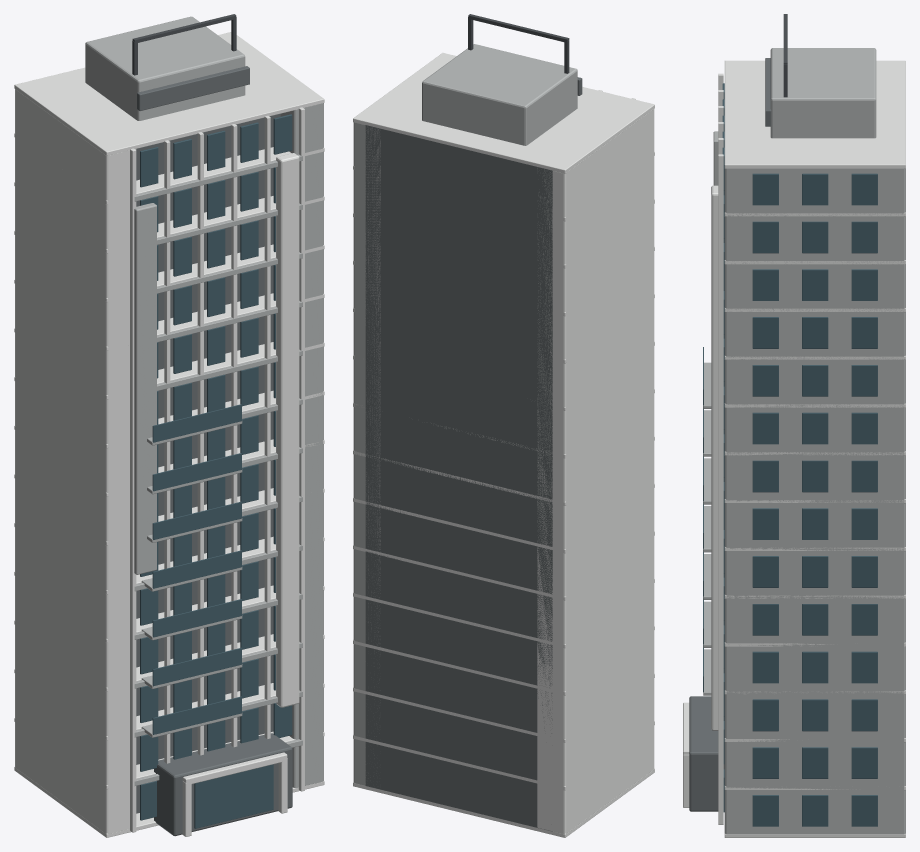
The model's file is building2.fbx.
The picture shows the model from 3 angles, left to right: view 1: azimuth 30°, elevation 25°; view 2: azimuth 150°, elevation 25°; view 3: azimuth 270°, elevation 25°; orthographic projection. The views are drawn at different scales.
Visible parts, largest first — view 1: LeftVerticalTower, CentralCore, RightVerticalTower, ArchitecturalSpine, Floor_14, RoofPenthouse, AshFeaturePanel, EntranceStructure, VerticalFrame, VerticalFrame.005, VerticalFrame.004, EntranceGlass (+65 smaller); view 2: CentralCore, LeftVerticalTower, RoofPenthouse, RightVerticalTower, Floor_14, Floor_0, Floor_3, Floor_1, Floor_2, Floor_4, Floor_5, Floor_6 (+2 smaller); view 3: RightVerticalTower, Floor_14, RoofPenthouse, ArchitecturalSpine, VerticalFrame.005, EntranceStructure, SideGlassR_12_-3, SideGlassR_12_0, SideGlassR_12_3, SideGlassR_13_-3, SideGlassR_13_0, SideGlassR_13_3 (+47 smaller).
Part boxes in pixels (<box>): LeftVerticalTower: <box>15,89,136,833</box>; CentralCore: <box>136,114,280,813</box>; RightVerticalTower: <box>280,103,323,787</box>; ArchitecturalSpine: <box>276,153,299,707</box>; Floor_14: <box>14,32,324,155</box>; RoofPenthouse: <box>85,16,245,120</box>; AshFeaturePanel: <box>134,203,156,574</box>; EntranceStructure: <box>154,733,292,836</box>; VerticalFrame: <box>130,148,136,832</box>; VerticalFrame.005: <box>298,107,304,791</box>; VerticalFrame.004: <box>264,115,270,739</box>; EntranceGlass: <box>194,764,273,828</box>; CentralCore: <box>365,125,552,831</box>; LeftVerticalTower: <box>537,109,654,833</box>; RoofPenthouse: <box>422,44,577,145</box>; RightVerticalTower: <box>353,122,380,785</box>; Floor_14: <box>353,53,654,173</box>; Floor_0: <box>353,768,654,837</box>; Floor_3: <box>353,626,654,695</box>; Floor_1: <box>353,721,654,790</box>; Floor_2: <box>353,673,654,742</box>; Floor_4: <box>353,579,654,648</box>; Floor_5: <box>353,531,654,600</box>; Floor_6: <box>353,484,654,553</box>; RightVerticalTower: <box>724,168,905,834</box>; Floor_14: <box>724,60,905,168</box>; RoofPenthouse: <box>770,48,876,138</box>; ArchitecturalSpine: <box>711,185,718,730</box>; VerticalFrame.005: <box>718,154,723,824</box>; EntranceStructure: <box>689,696,724,811</box>; SideGlassR_12_-3: <box>752,221,778,253</box>; SideGlassR_12_0: <box>802,221,828,253</box>; SideGlassR_12_3: <box>851,221,877,253</box>; SideGlassR_13_-3: <box>752,173,778,205</box>; SideGlassR_13_0: <box>802,173,828,205</box>; SideGlassR_13_3: <box>851,173,877,205</box>.
Size of what is drawn, in the model's own units: 1508 by 5006 by 1352.
